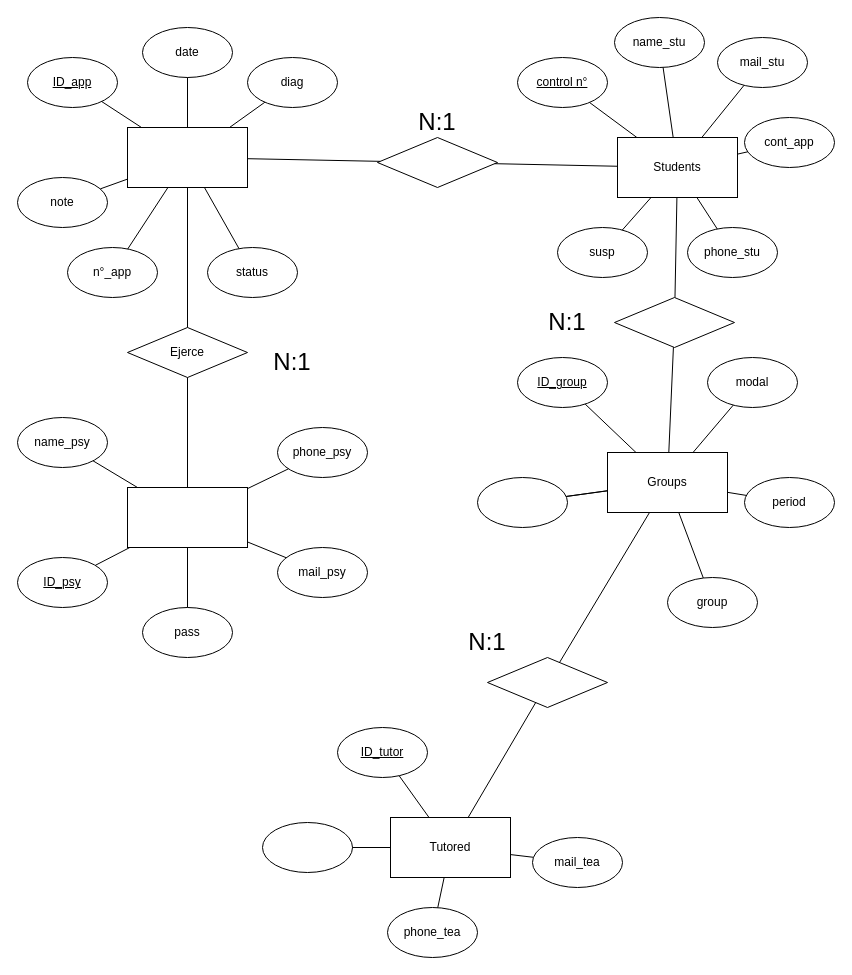
Image size: 852x975. Some labels were removed from this diagram. Each missing label, with the box of its shape:
Appointments: (126, 126, 248, 188)
carreer: (476, 476, 568, 528)
Conforma: (614, 296, 734, 348)
name_tea: (262, 822, 352, 872)
Psycologist: (126, 486, 248, 548)
Realiza: (376, 136, 498, 188)
Tutora: (486, 656, 608, 708)
